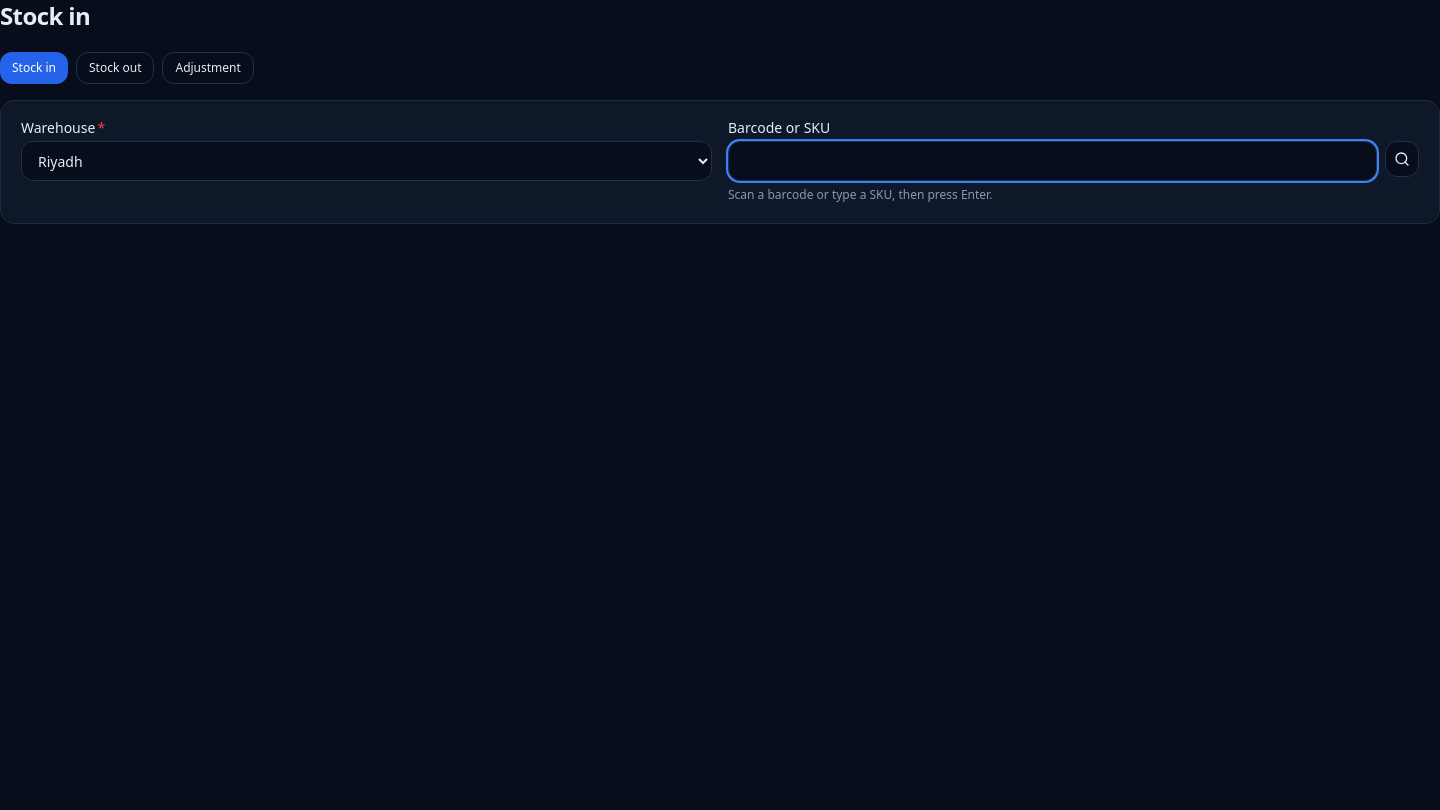
Test: stock movement form (server-first) › finds a product on the server by barcode and records a receipt
Type "2000000100104" into the field labelled "Barcode or SKU" at (1053, 161), box [728,141,1377,181]
Then press Enter
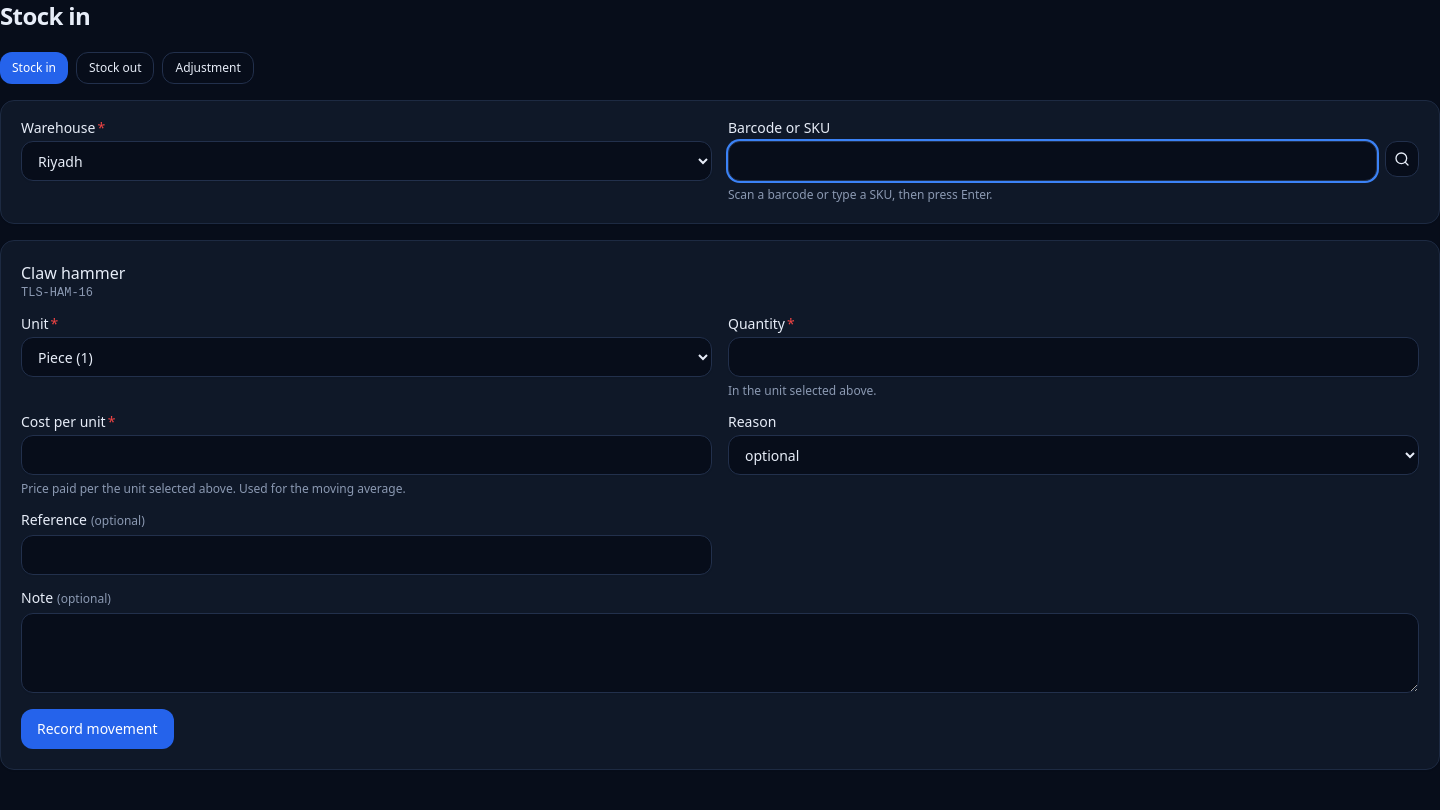
Check: the text "Claw hammer" is shown, box [21,262,125,284]
Type "2" into the field labelled "Quantity*" at (1074, 357), box [728,337,1419,377]
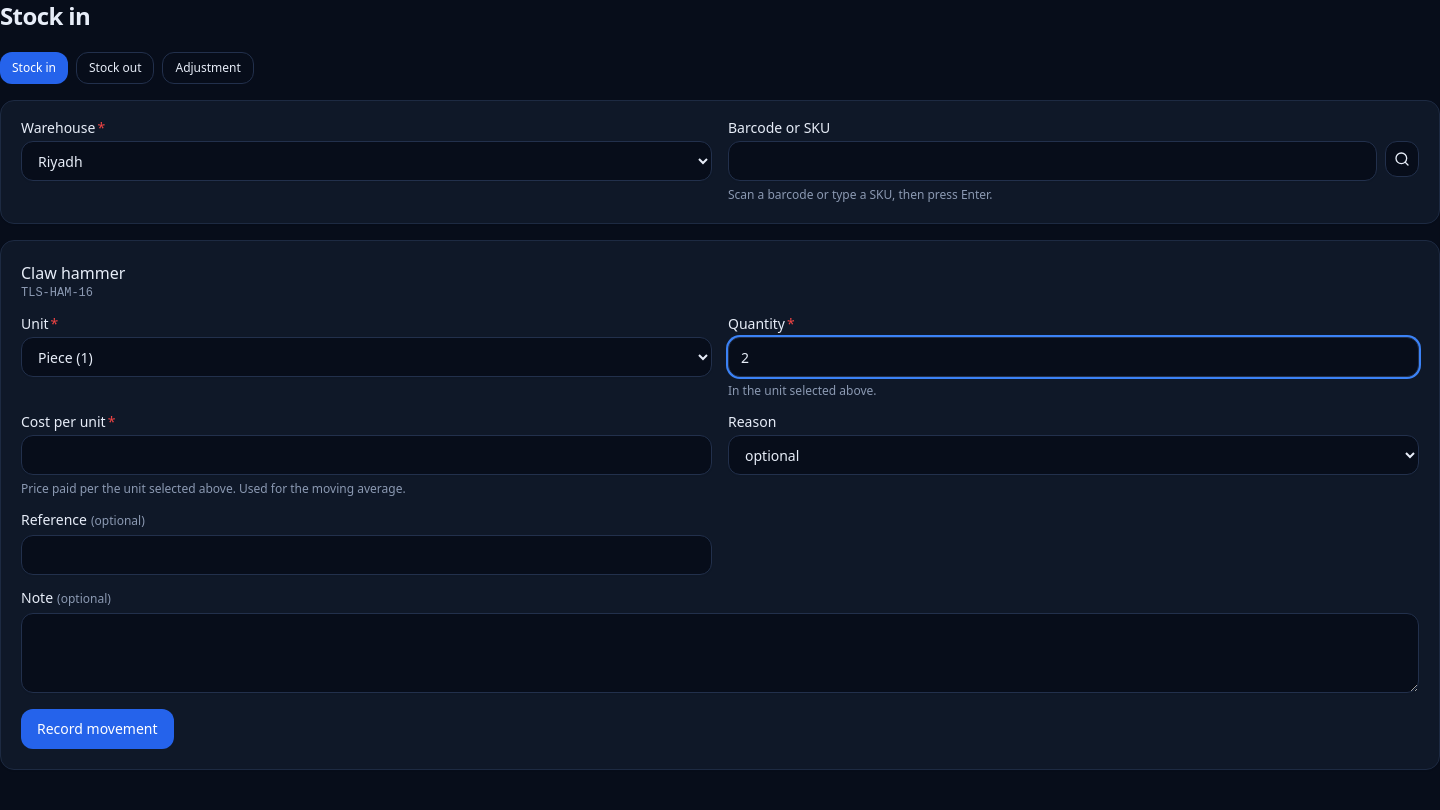
Type "25" into the field labelled "Cost per unit*" at (366, 455), box [21,435,712,475]
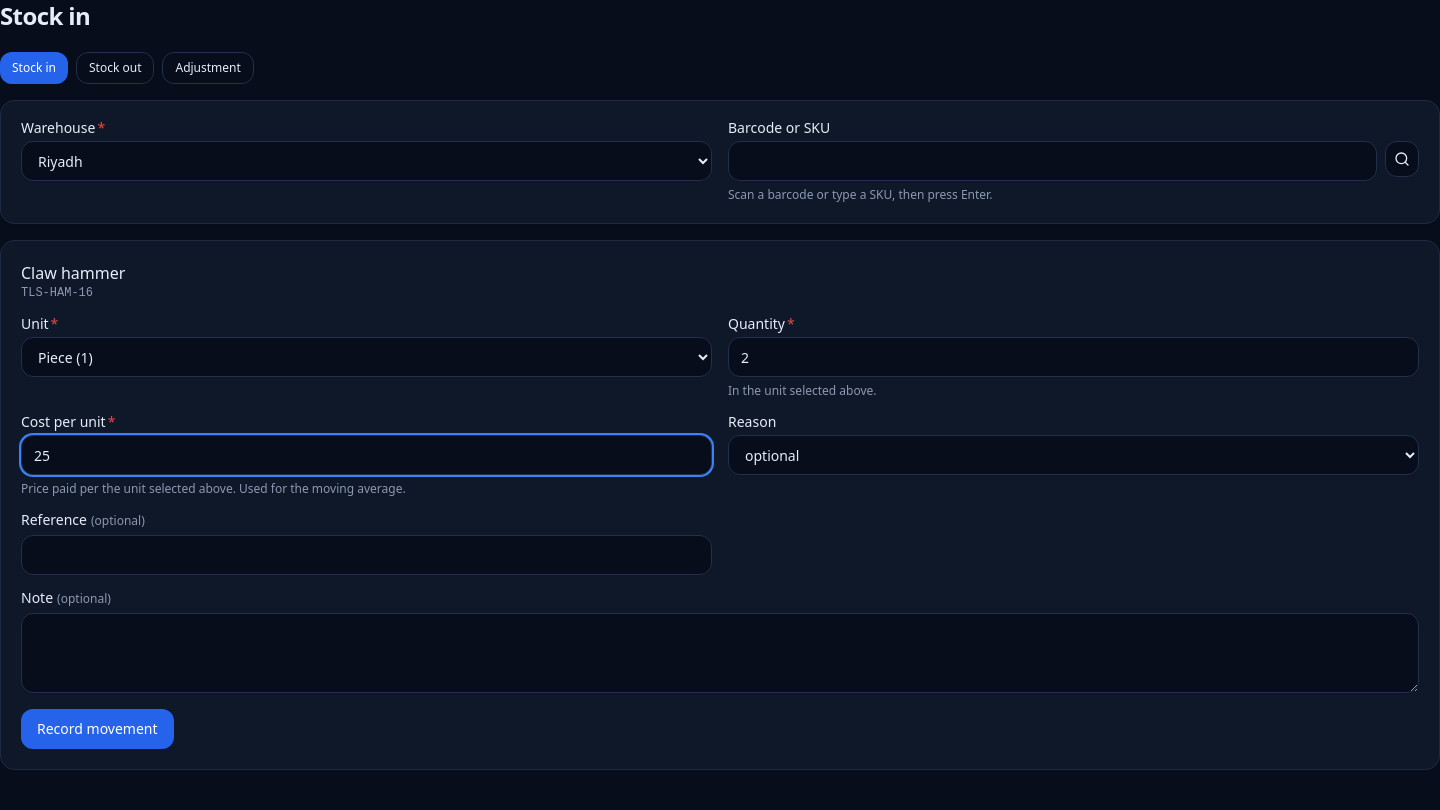
Click the button "Record movement" at (97, 729), box [21,709,174,749]
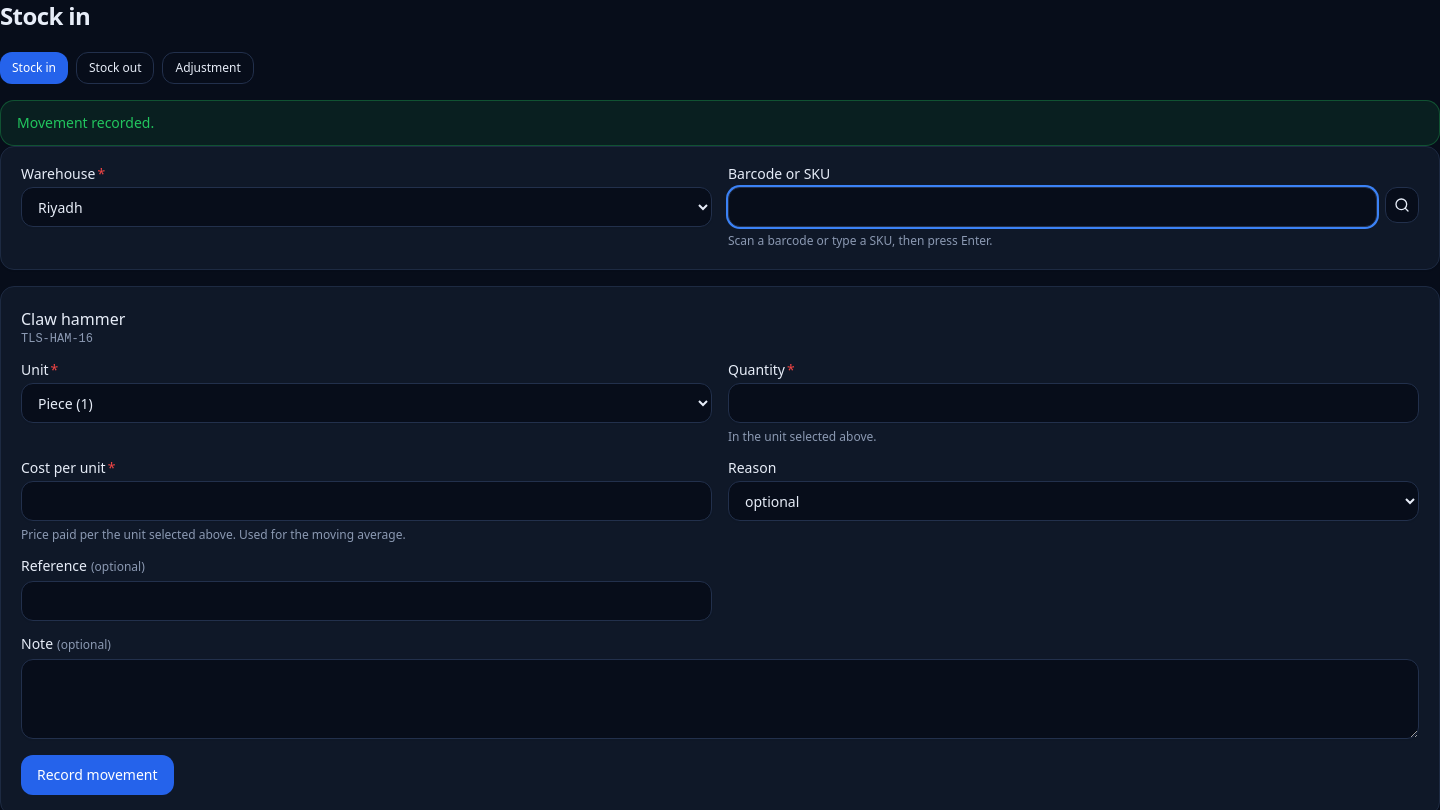
Check: the text "Movement recorded." is shown, box [0,100,1439,146]
